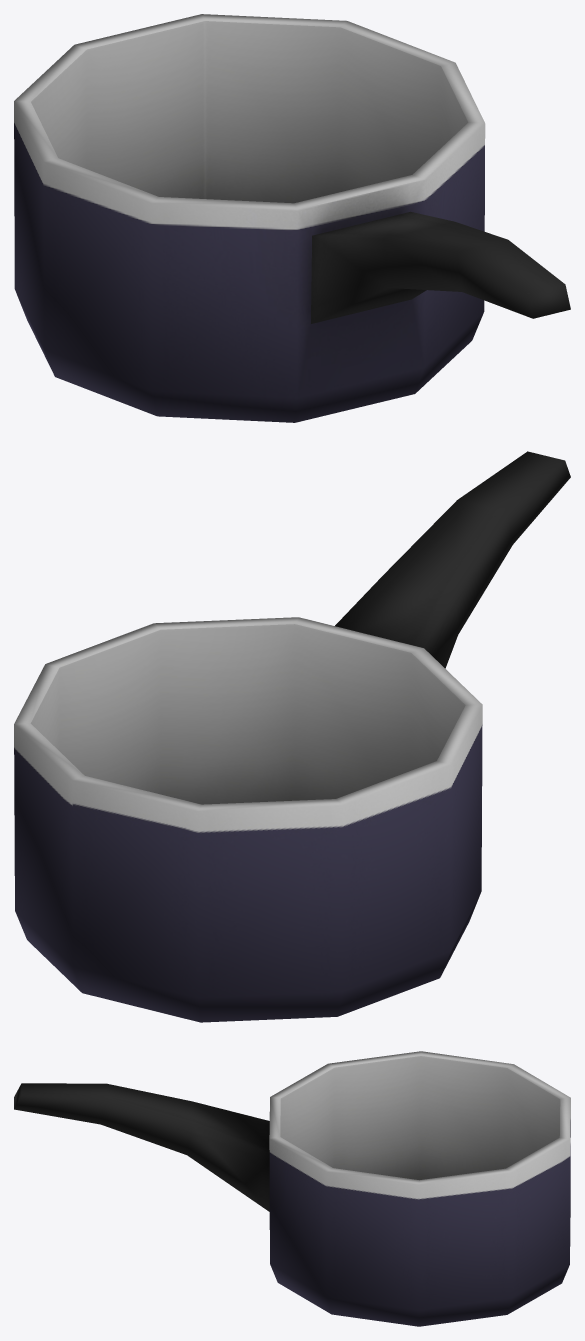
The model's file is frl_apartment_pan_01.glb.
The picture shows the model from 3 angles, top to bottom: view 1: azimuth 30°, elevation 25°; view 2: azimuth 150°, elevation 25°; view 3: azimuth 270°, elevation 25°; orthographic projection. The views are drawn at different scales.
Visible parts, largest first — view 1: frl_apartment_pan_01; view 2: frl_apartment_pan_01; view 3: frl_apartment_pan_01.
Part boxes in pixels (x1,y1,x2,y2): frl_apartment_pan_01: (14,14,570,422); frl_apartment_pan_01: (14,451,570,1022); frl_apartment_pan_01: (14,1051,570,1326).
Size of the model in its own units: 0.1822 by 0.1103 by 0.3208.
1 material, 1 textured.
